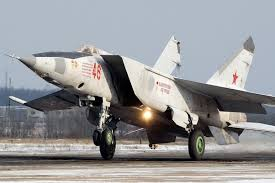fighter: (12, 32, 274, 160)
